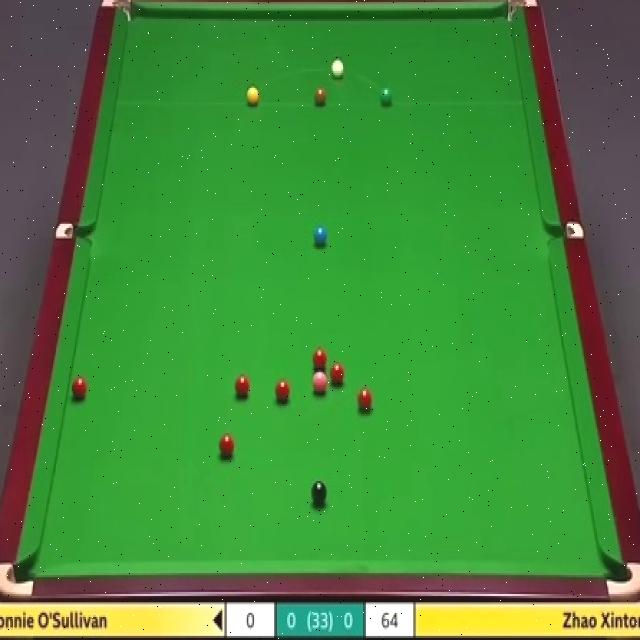black-ball: (312, 482, 326, 505)
blue-ball: (313, 227, 327, 244)
brown-ball: (314, 86, 328, 105)
green-ball: (379, 84, 394, 107)
pink-ball: (312, 372, 329, 396)
red-ball: (218, 432, 236, 458), (274, 380, 293, 402), (71, 378, 88, 401), (235, 375, 251, 396), (329, 362, 344, 383), (358, 389, 372, 410), (312, 349, 326, 369)
white-ball: (331, 56, 344, 78)
yellow-ball: (247, 86, 260, 107)
